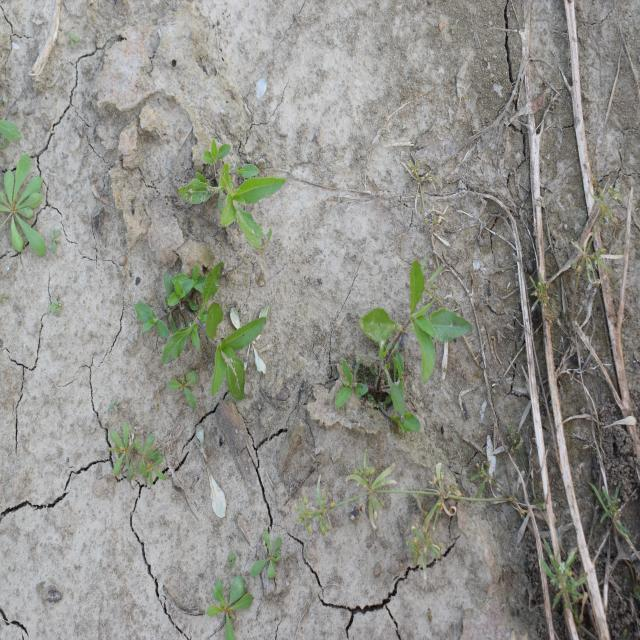Carpetweed: (290, 434, 556, 580), (1, 150, 47, 258), (537, 534, 590, 613), (106, 422, 168, 488), (206, 574, 254, 638), (248, 528, 284, 580), (164, 368, 198, 411)
Eclipta: (333, 258, 474, 438), (134, 260, 268, 402), (176, 136, 288, 252)
